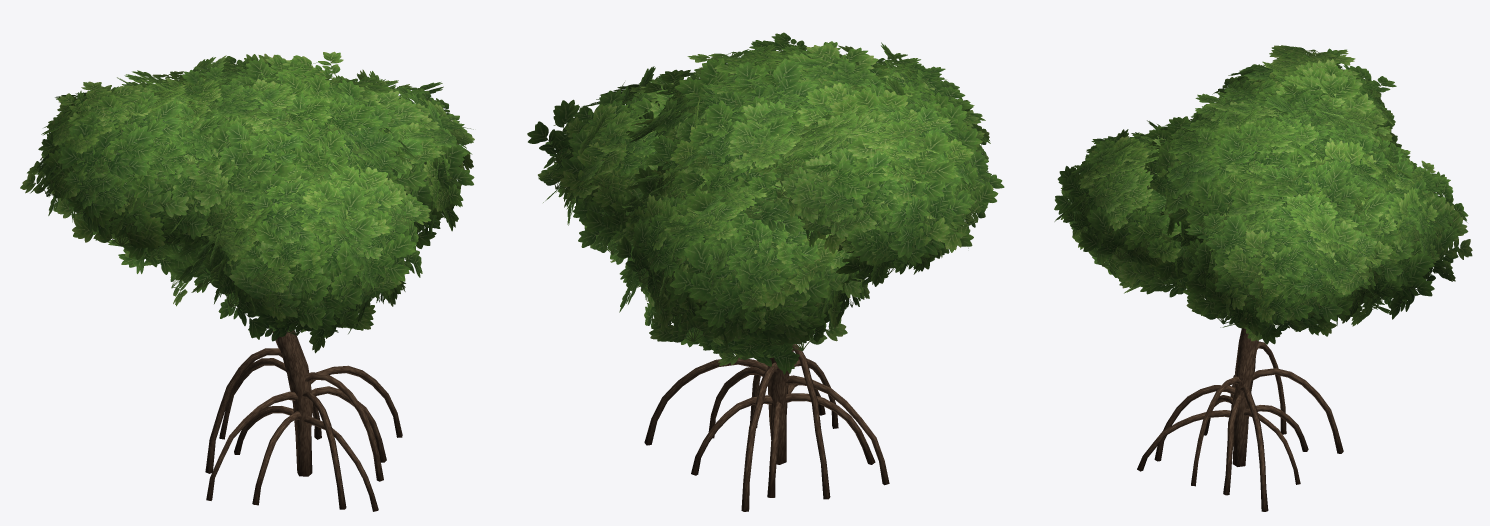
Rendered from mangrove_d_lod1.glb.
3 renders of one model, left to right at view 1: azimuth 30°, elevation 25°; view 2: azimuth 150°, elevation 25°; view 3: azimuth 270°, elevation 25°, orthographic. The views are drawn at different scales.
Parts seen in each view (by area): view 1: leaves, wood; view 2: leaves, wood; view 3: leaves, wood.
Boxes of the visible parts, bbox=[...] form: leaves: bbox=[20, 51, 474, 353]; wood: bbox=[205, 330, 402, 511]; leaves: bbox=[527, 32, 1004, 374]; wood: bbox=[644, 344, 889, 511]; leaves: bbox=[1054, 45, 1472, 344]; wood: bbox=[1137, 317, 1343, 511].
Size of the model in its own units: 12.95 by 12.27 by 12.81.
Materials: 2 (2 with a texture image).
